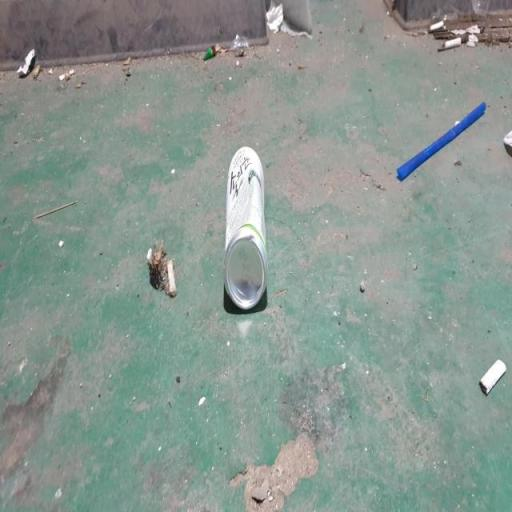metal: (212, 122, 278, 326)
